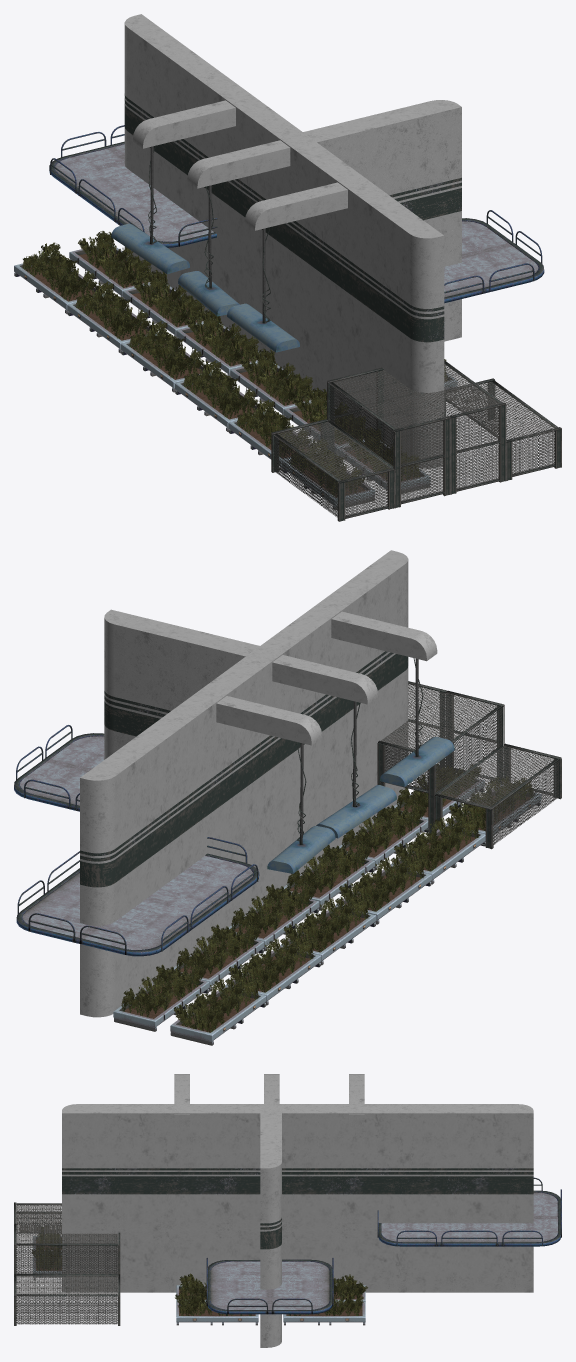
Rendered from SM_Garden.glb.
3 renders of one model, top to bottom at view 1: azimuth 30°, elevation 25°; view 2: azimuth 150°, elevation 25°; view 3: azimuth 270°, elevation 25°, orthographic. The views are drawn at different scales.
Parts seen in each view (by area): view 1: wall, cages, Plane.006, Cube.033, conteiners, Cylinder.003, Soil.001; view 2: wall, Plane.006, Cube.033, cages, conteiners, Cylinder.003, Soil.001; view 3: wall, Cube.033, cages, Plane.006, conteiners, Soil.001.
Boxes of the visible parts, box(x1,y1,x2,y2) form: wall: box(124, 14, 461, 468); cages: box(271, 360, 561, 521); Plane.006: box(22, 231, 447, 495); Cube.033: box(49, 125, 544, 303); conteiners: box(14, 245, 457, 509); Cylinder.003: box(111, 146, 299, 352); Soil.001: box(25, 248, 447, 497); wall: box(80, 550, 437, 1017); Plane.006: box(121, 763, 533, 1032); Cube.033: box(14, 725, 259, 956); cages: box(377, 681, 561, 849); conteiners: box(113, 778, 541, 1045); Cylinder.003: box(267, 658, 454, 873); Soil.001: box(123, 778, 529, 1032); wall: box(62, 1074, 533, 1347); Cube.033: box(206, 1177, 561, 1314); cages: box(14, 1202, 120, 1325); Plane.006: box(32, 1226, 367, 1315); conteiners: box(33, 1236, 365, 1325); Soil.001: box(36, 1241, 362, 1315).
Size of the model in its own units: 28.11 by 18.22 by 50.34.
Materials: 8 (8 with a texture image).
